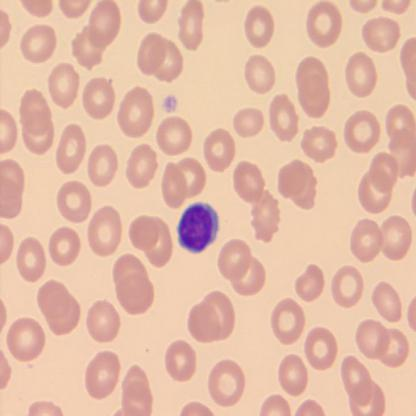Lymphocyte: (178, 201, 220, 253)
